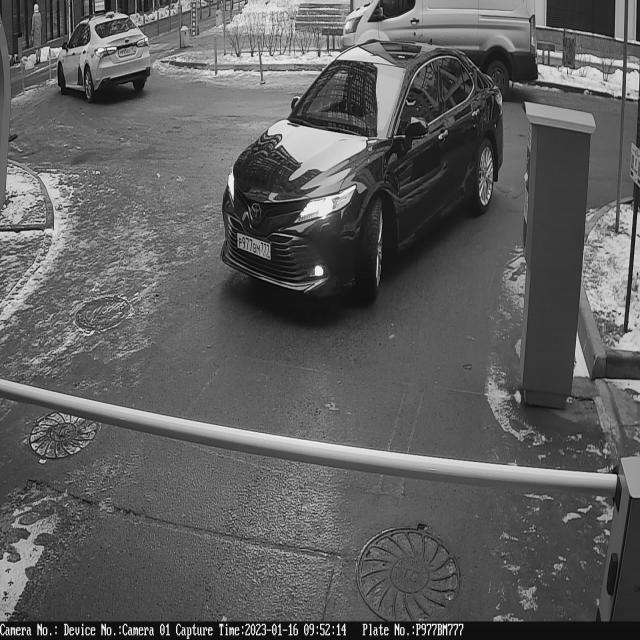car-plate-numbers: (235, 231, 274, 265)
